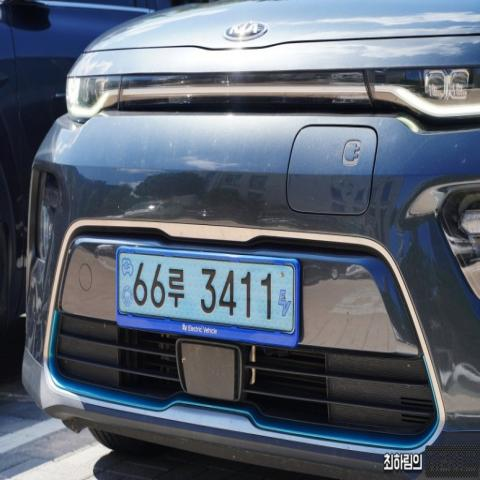LP: (112, 240, 305, 358)
